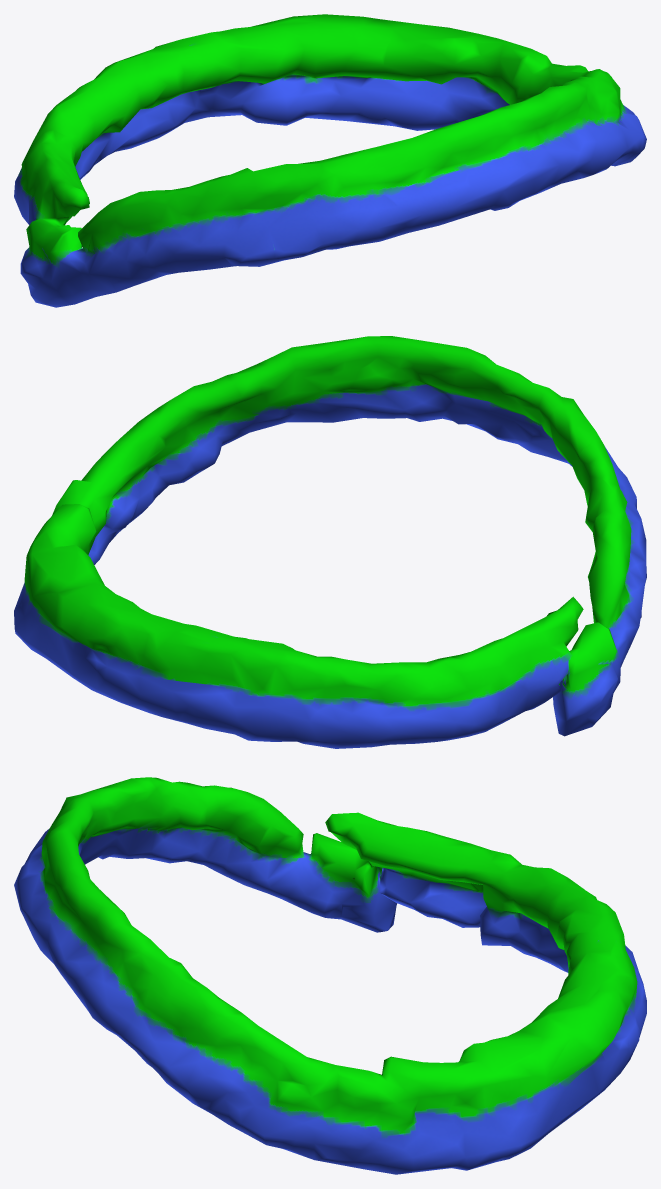
The model's file is headband blue-green.glb.
3 views of the same model, one above another, from view 1: azimuth 30°, elevation 25°; view 2: azimuth 150°, elevation 25°; view 3: azimuth 270°, elevation 25° (orthographic). The views are drawn at different scales.
Visible parts, largest first — view 1: headband_blue_green.001; view 2: headband_blue_green.001; view 3: headband_blue_green.001.
Part boxes in pixels (x1,y1,x2,y2): headband_blue_green.001: [14, 14, 646, 307]; headband_blue_green.001: [14, 336, 646, 748]; headband_blue_green.001: [14, 777, 646, 1174].
Bounding box in the file's own units: 0.3703 × 0.138 × 0.3437.
Materials: 1 (1 with a texture image).
